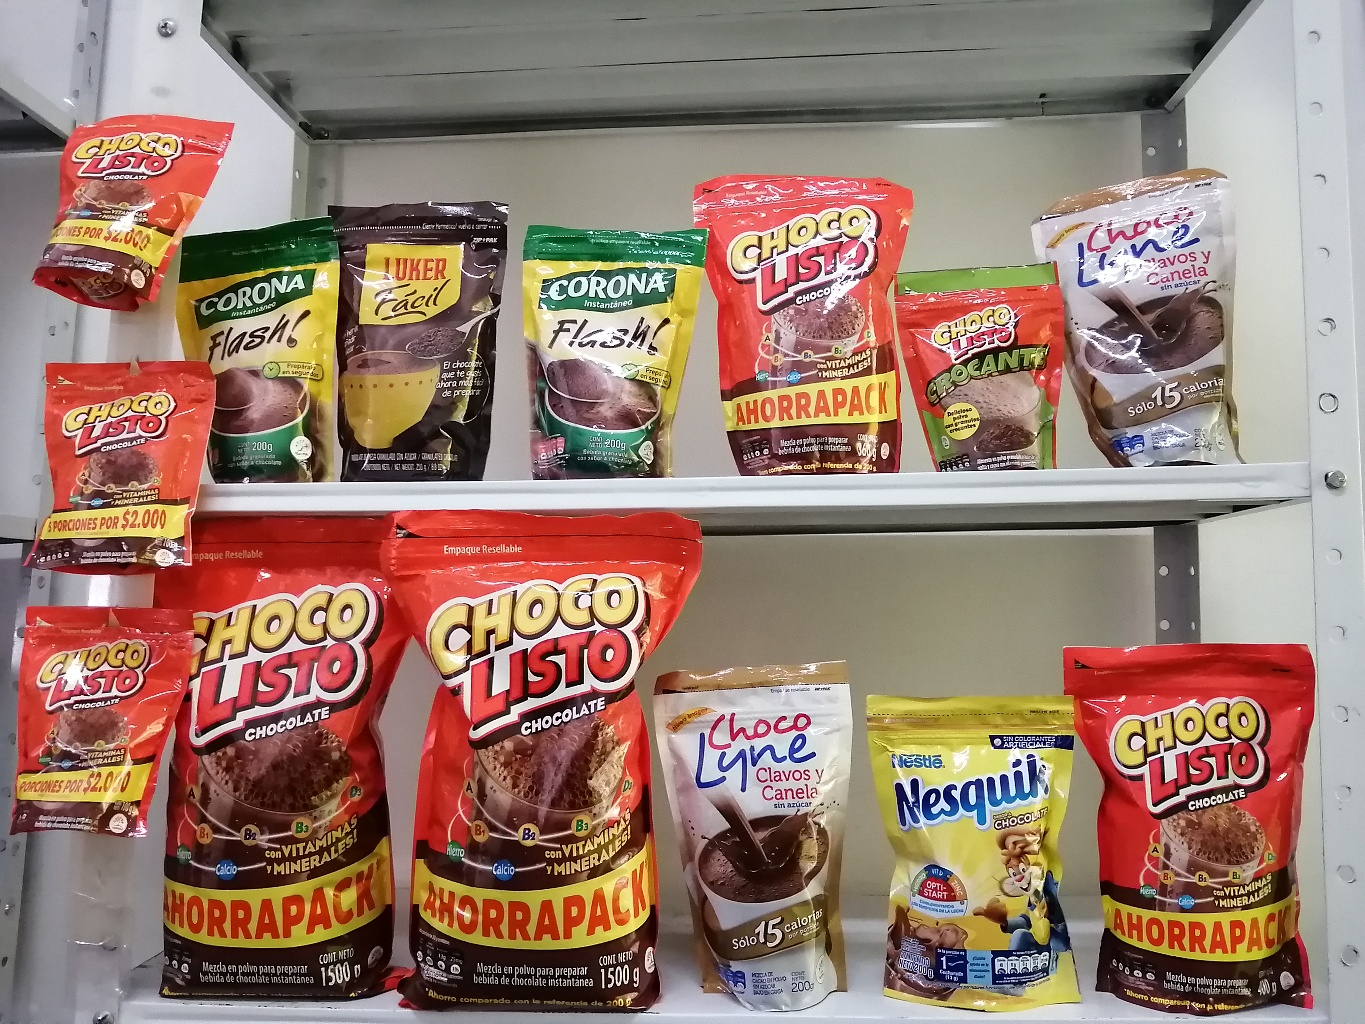COL0170102DYP10000: (882, 257, 1085, 480)
COL0170103DYP1,500: (366, 504, 712, 1023)
COL0170103DYP10000: (20, 94, 246, 315)
COL0170103DYP36000: (679, 163, 947, 477)
COL0170103DYP40000: (1051, 634, 1340, 1020)
COL0170303DYP20000: (851, 684, 1104, 1015)
